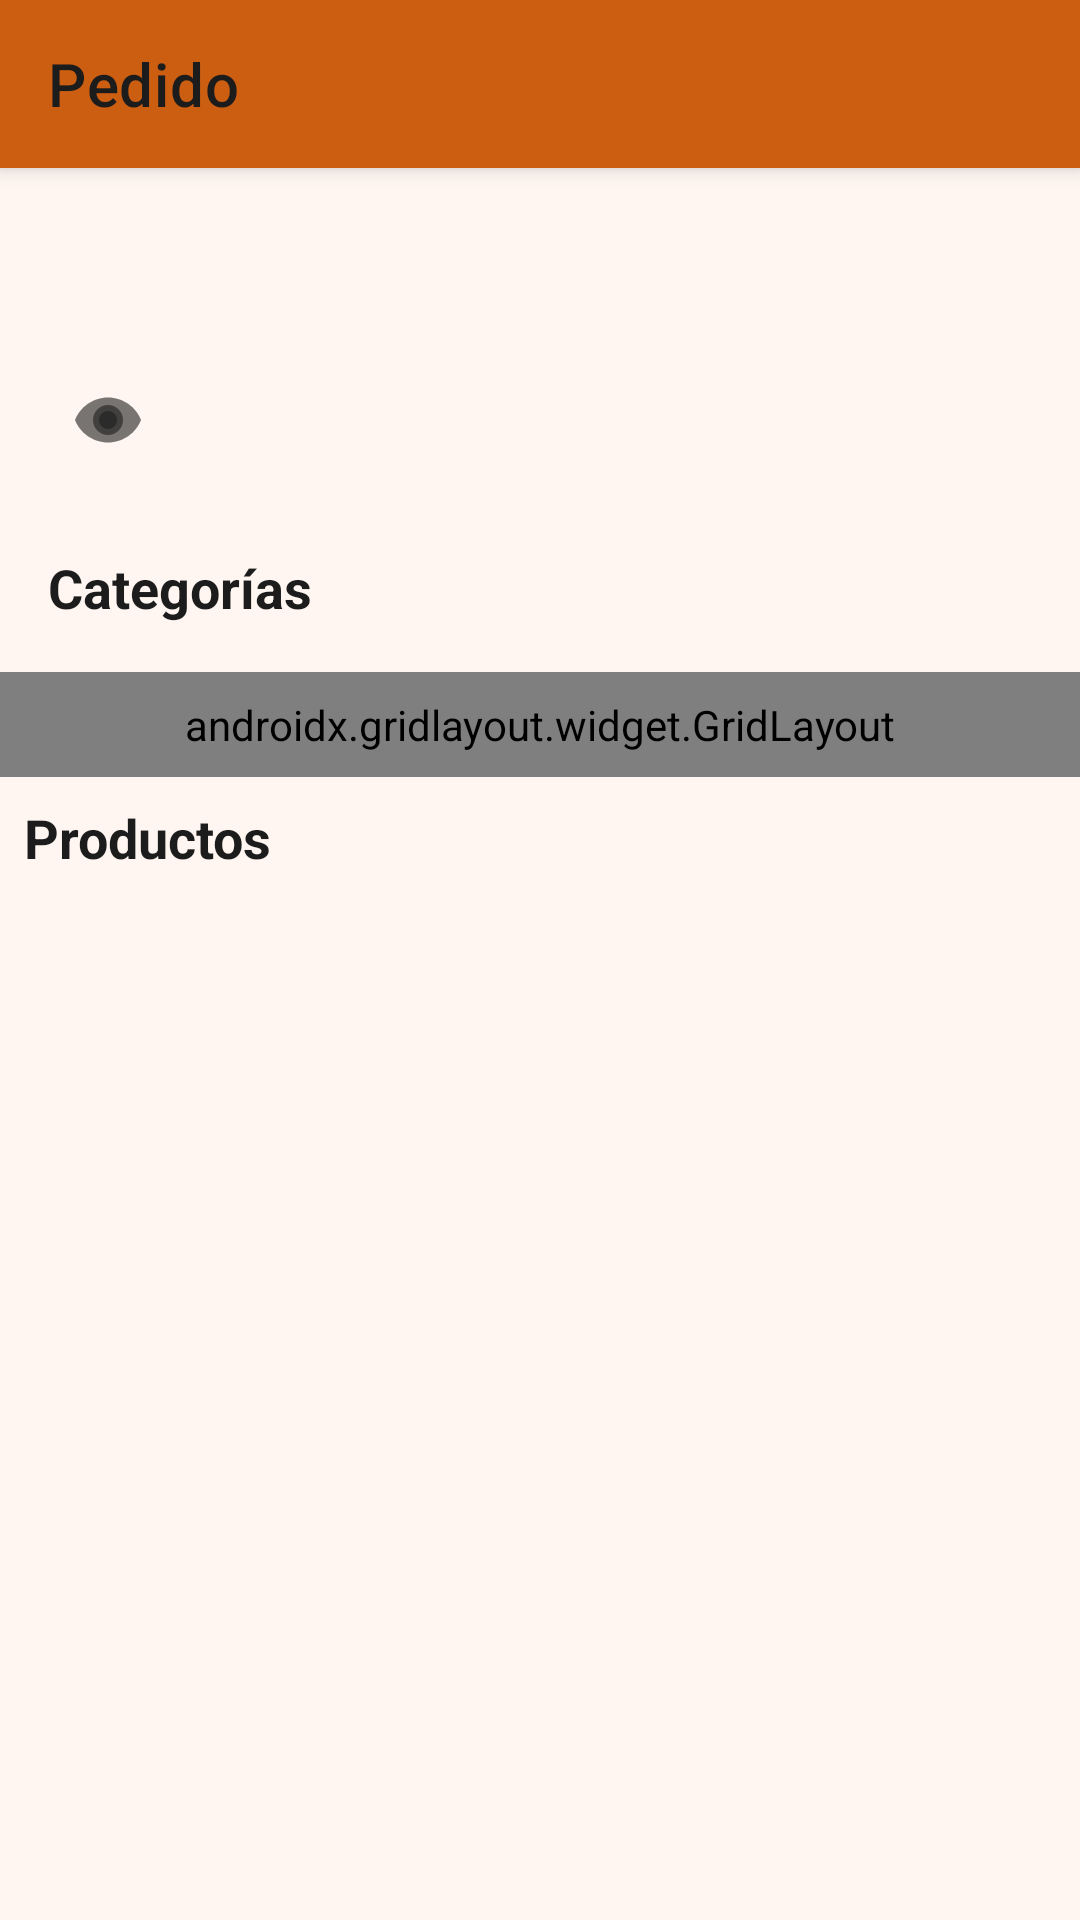

Locate icon controls on the screen. Image size 1080w x 1920h, boxes as detection(x1, y1, x2, y2).
Mostrar pedido: detection(75, 397, 141, 443)
